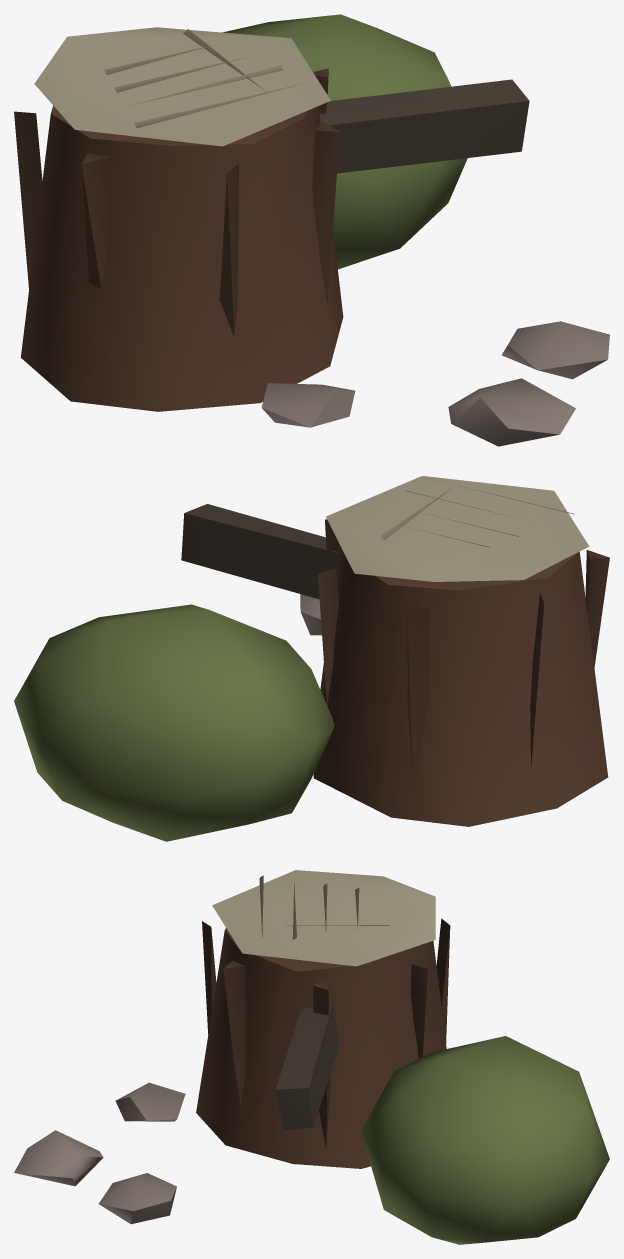
Rendered from chart_post_c_lod2.glb.
3 renders of one model, top to bottom at view 1: azimuth 30°, elevation 25°; view 2: azimuth 150°, elevation 25°; view 3: azimuth 270°, elevation 25°, orthographic. The views are drawn at different scales.
Visible parts, largest first — view 1: Surface.001; view 2: Surface.001; view 3: Surface.001.
Boxes of the visible parts, bbox=[...] form: Surface.001: bbox=[14, 14, 609, 446]; Surface.001: bbox=[14, 476, 609, 841]; Surface.001: bbox=[14, 870, 609, 1244].
Bounding box in the file's own units: 1.43 × 0.8295 × 1.87.
